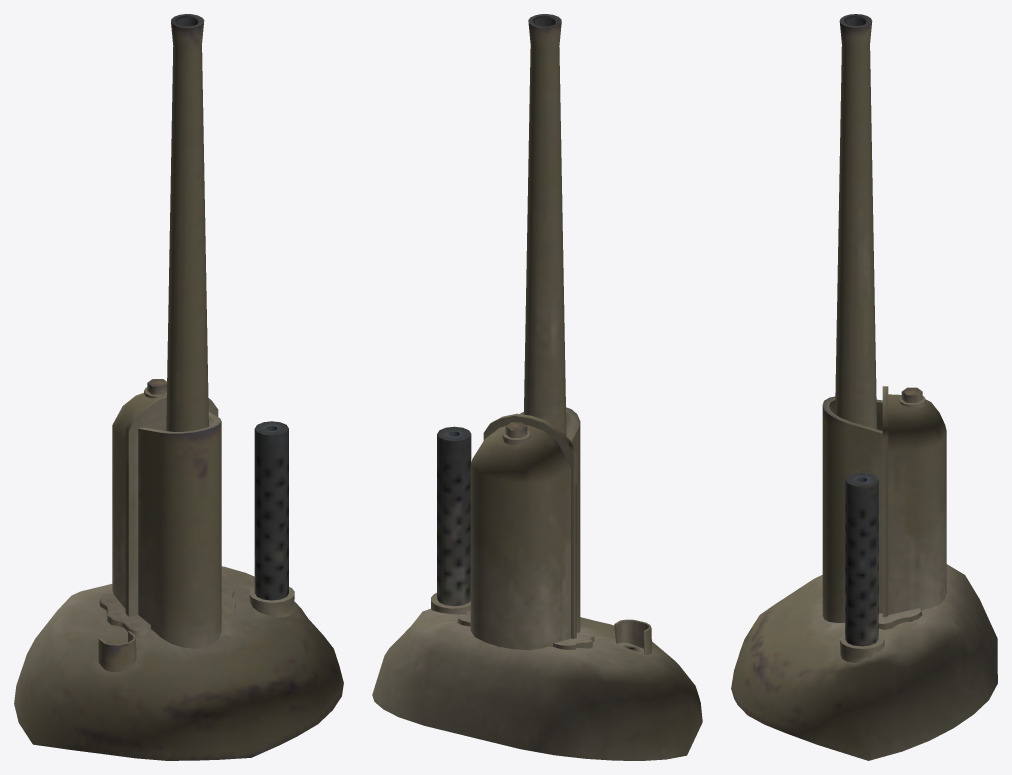
Rendered from Gun_05.glb.
3 renders of one model, left to right at view 1: azimuth 30°, elevation 25°; view 2: azimuth 150°, elevation 25°; view 3: azimuth 270°, elevation 25°, orthographic. The views are drawn at different scales.
Parts seen in each view (by area): view 1: set_0_group_0; view 2: set_0_group_0; view 3: set_0_group_0.
Part boxes in pixels (box(x1,y1,x2,y2)): set_0_group_0: box(14, 14, 343, 760); set_0_group_0: box(372, 14, 702, 760); set_0_group_0: box(731, 14, 997, 760).
Bounding box in the file's own units: 0.5694 × 1.28 × 0.4599.
Materials: 1 (1 with a texture image).
